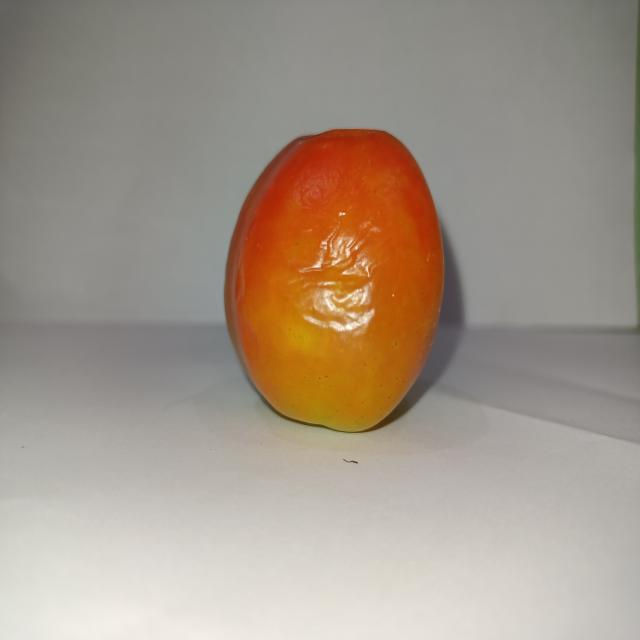Red: (222, 126, 446, 433)
